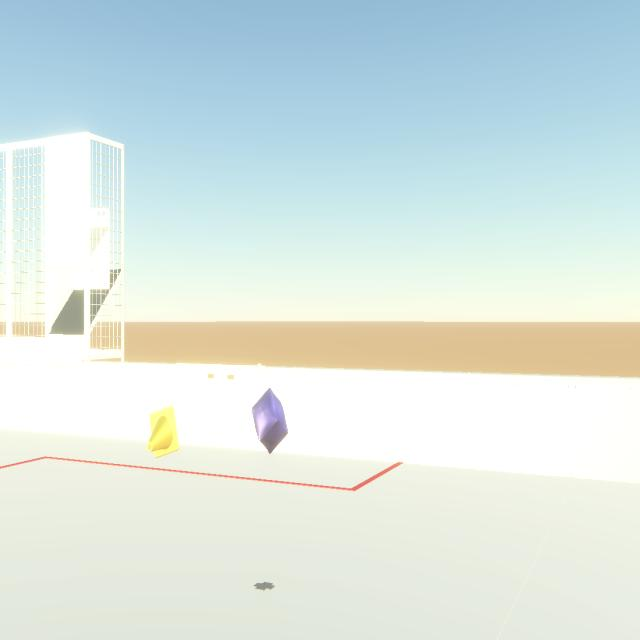frc_cone: (147, 405, 179, 458)
frc_cube: (252, 387, 288, 454)
